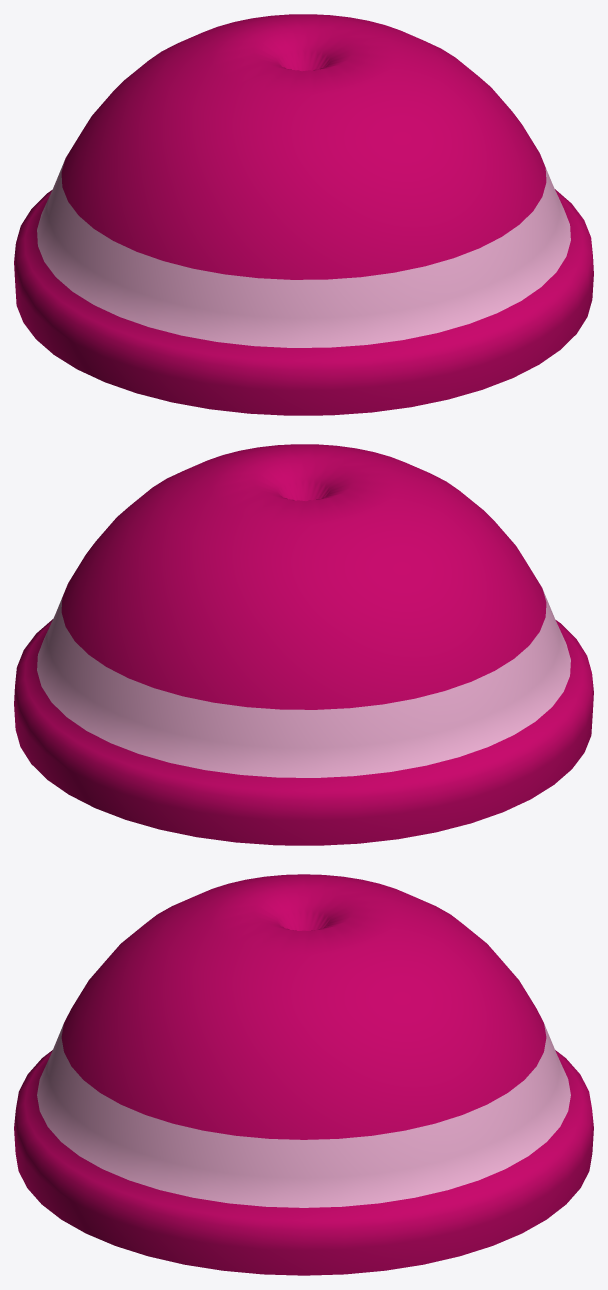
Rendered from lazer.FBX.
3 views of the same model, one above another, from view 1: azimuth 30°, elevation 25°; view 2: azimuth 150°, elevation 25°; view 3: azimuth 270°, elevation 25° (orthographic).
Parts seen in each view (by area): view 1: Sphère003; view 2: Sphère003; view 3: Sphère003.
Boxes of the visible parts, x1,y1,x2,y2 form: Sphère003: (14, 14, 593, 415); Sphère003: (14, 444, 593, 845); Sphère003: (14, 874, 593, 1275).
Bounding box in the file's own units: 12.94 × 6.02 × 12.94.
